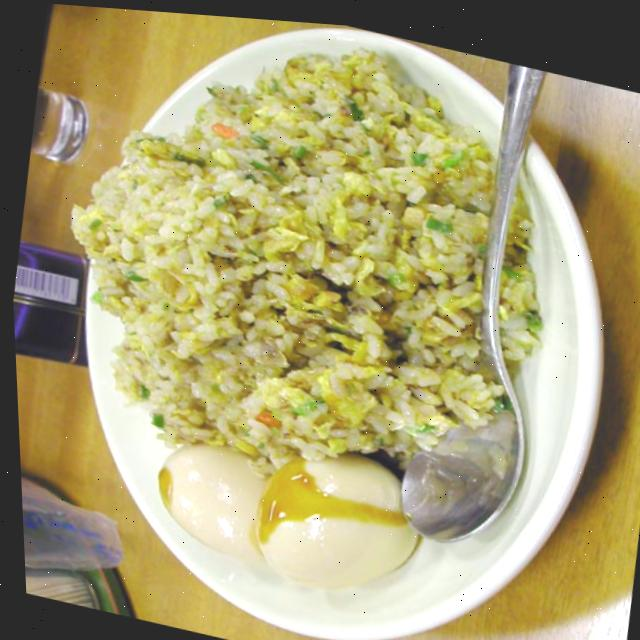米饭主食: (15, 1, 640, 640)
